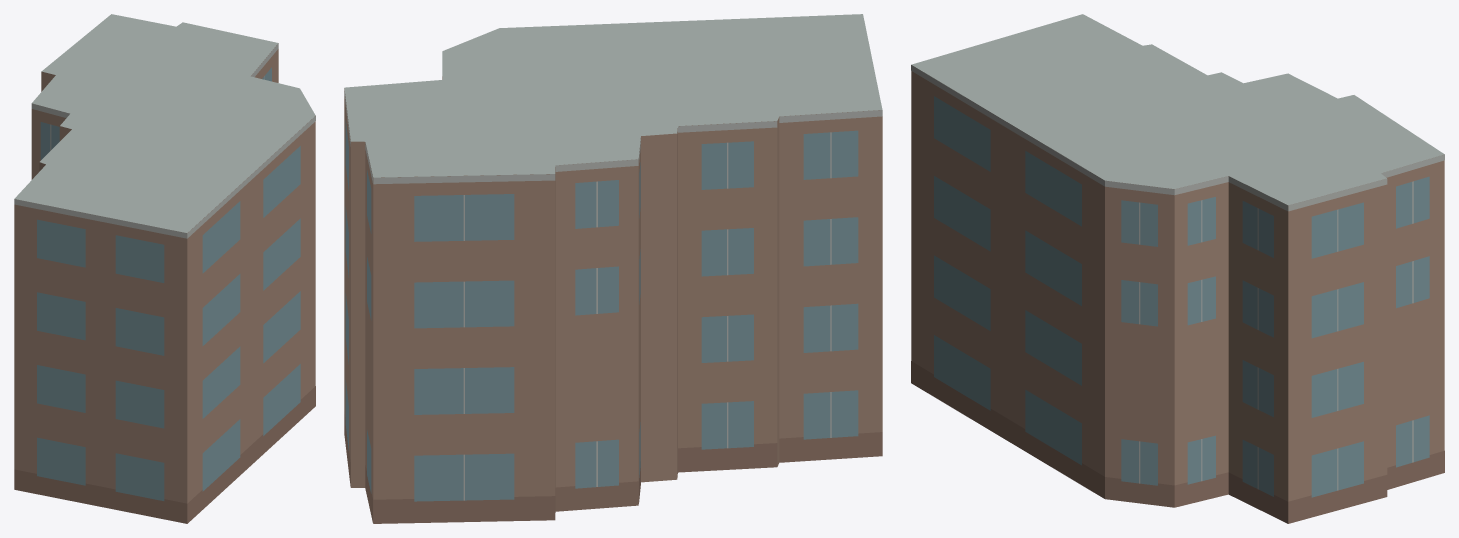
Rendered from survey-upis-32933276.glb.
The picture shows the model from 3 angles, left to right: view 1: azimuth 30°, elevation 25°; view 2: azimuth 150°, elevation 25°; view 3: azimuth 270°, elevation 25°; orthographic projection. The views are drawn at different scales.
Parts seen in each view (by area): view 1: survey-upis-32933276.tmp; view 2: survey-upis-32933276.tmp; view 3: survey-upis-32933276.tmp.
Boxes of the visible parts, <box> form: survey-upis-32933276.tmp: <box>14,14,315,523</box>; survey-upis-32933276.tmp: <box>344,14,882,523</box>; survey-upis-32933276.tmp: <box>911,14,1444,523</box>.
Bounding box in the file's own units: 16.51 × 12.8 × 19.44.
